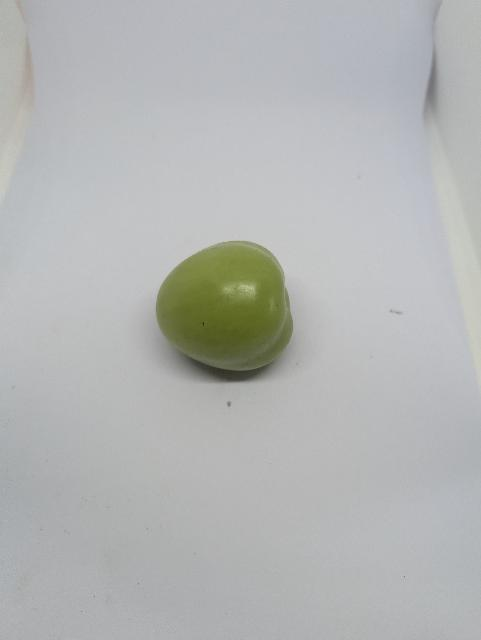green: (151, 235, 301, 386)
